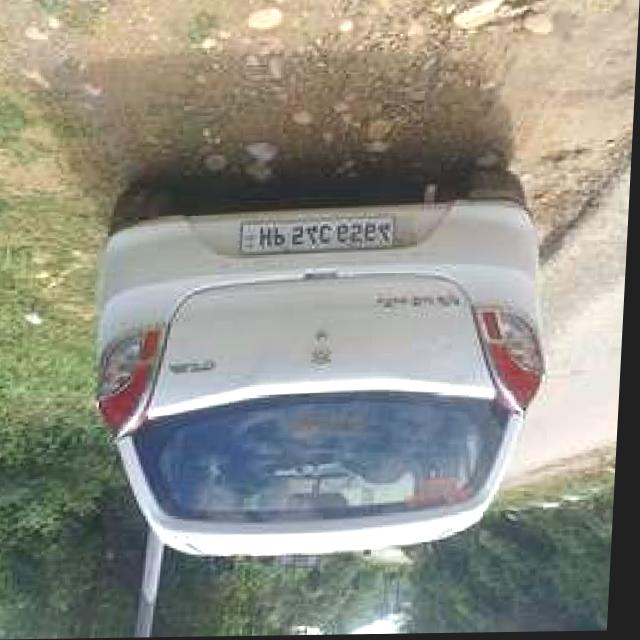4: (380, 222, 397, 244), (309, 226, 321, 246)
5: (293, 226, 307, 246), (352, 224, 365, 243)
6: (365, 223, 380, 243), (338, 225, 353, 243)
c: (321, 225, 336, 244)
h: (260, 226, 274, 250)
p: (273, 227, 289, 247)
